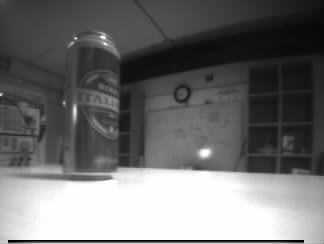Tin can: (60, 30, 121, 180)
